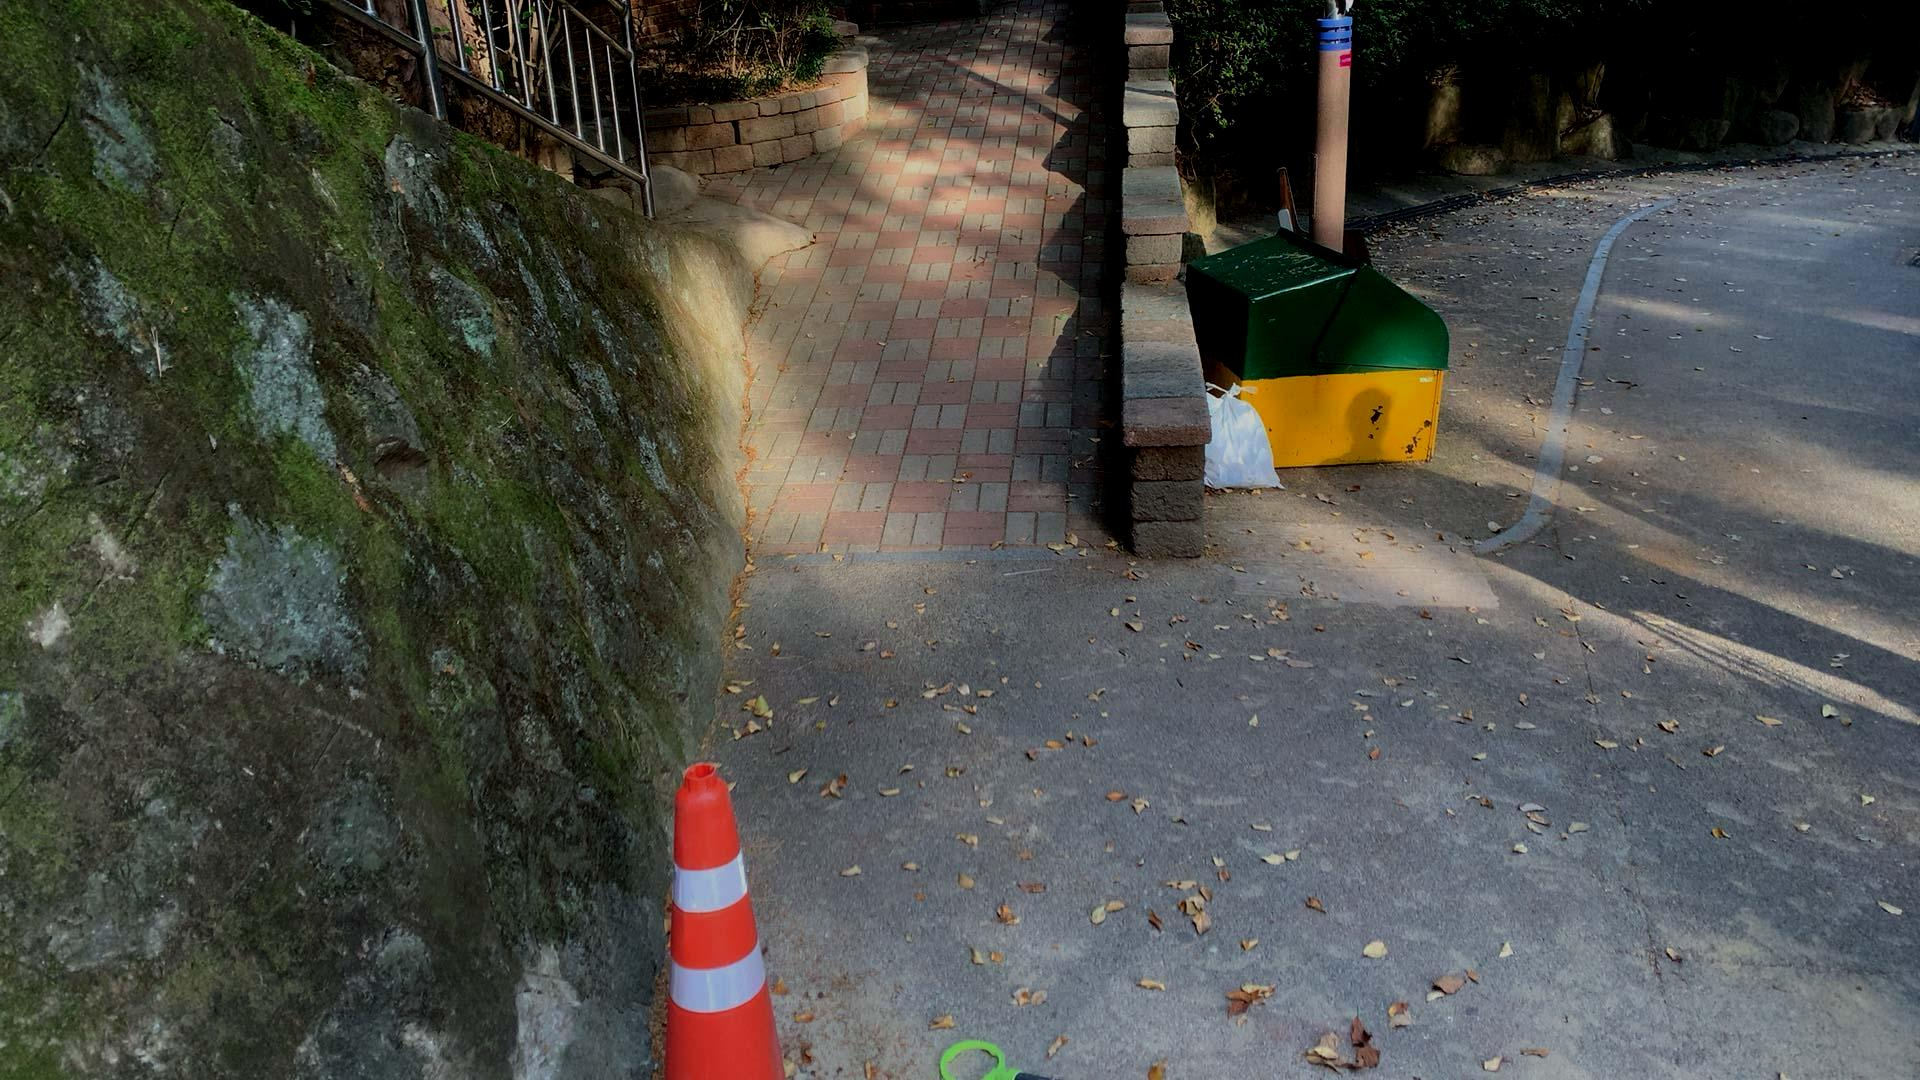white_bag: (1183, 378, 1298, 509)
